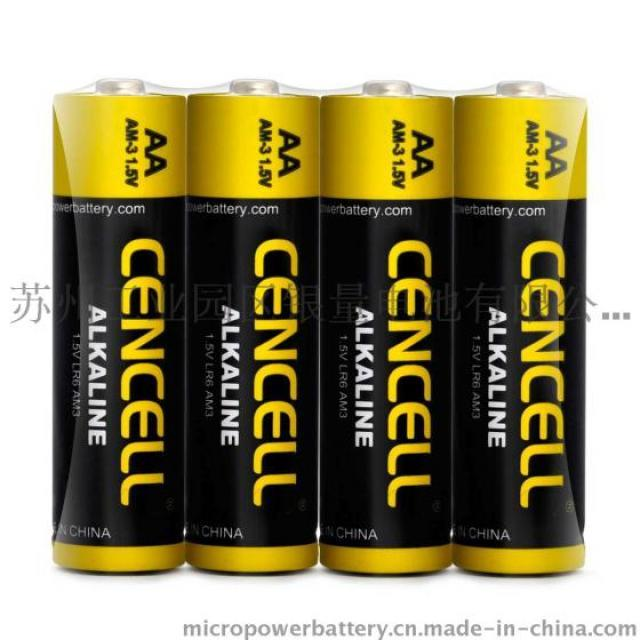hazardous waste: (180, 76, 326, 574), (46, 74, 188, 570), (454, 76, 592, 575), (324, 75, 456, 572)
